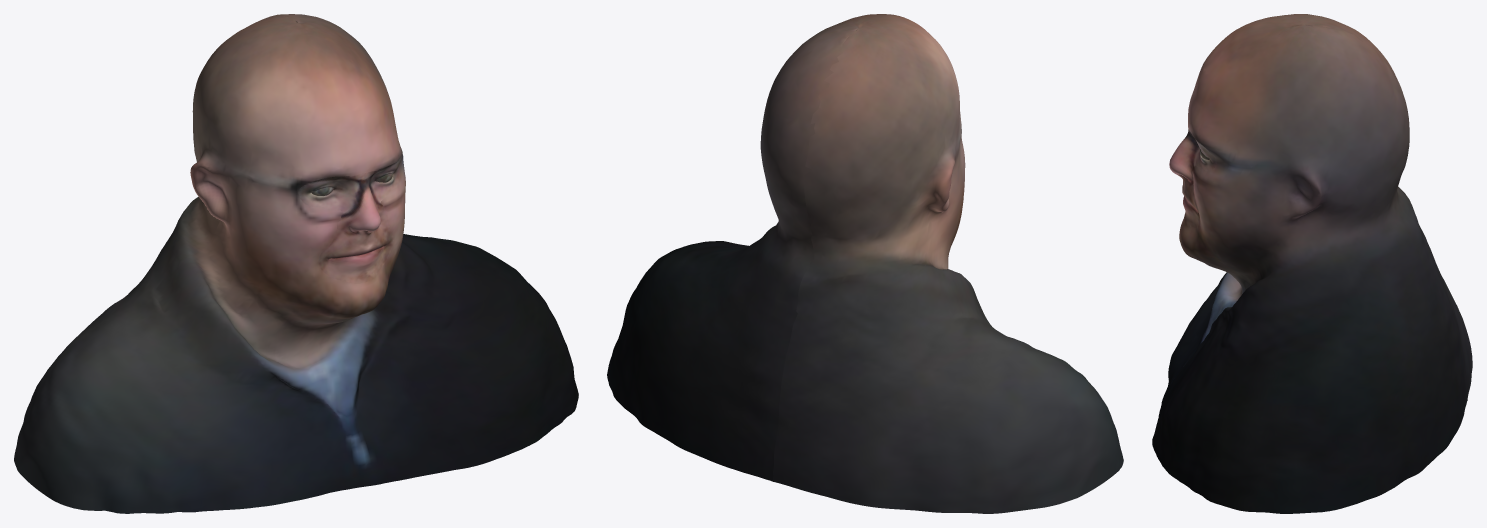
File: HectorGutierrez.gltf
3 renders of one model, left to right at view 1: azimuth 30°, elevation 25°; view 2: azimuth 150°, elevation 25°; view 3: azimuth 270°, elevation 25°, orthographic. The views are drawn at different scales.
Visible parts, largest first — view 1: HectorGutierrez; view 2: HectorGutierrez; view 3: HectorGutierrez.
Boxes of the visible parts, x1=… form: HectorGutierrez: x1=14, y1=14, x2=578, y2=513; HectorGutierrez: x1=607, y1=14, x2=1123, y2=513; HectorGutierrez: x1=1152, y1=14, x2=1472, y2=513.
Size of the model in its own units: 10.6 by 8.06 by 6.24.
Materials: 1 (1 with a texture image).
